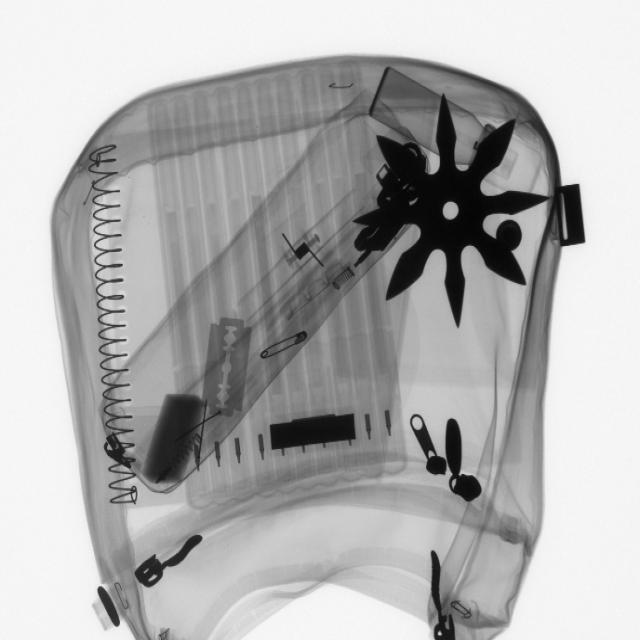BLADE: (198, 312, 262, 438)
SHURIKEN: (356, 91, 547, 329)
